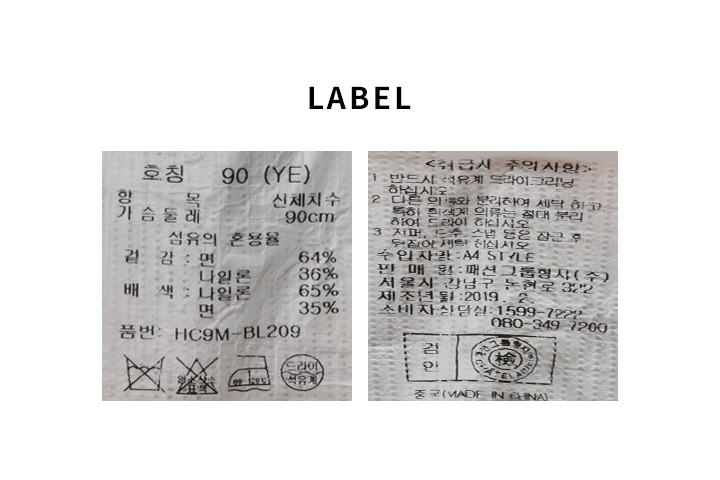KR_dry_clean_petroleum: (278, 348, 327, 394)
KR_iron_low_temp_with_cloth: (224, 348, 274, 394)
KR_no_bleach: (171, 352, 222, 397)
KR_no_wash: (121, 351, 166, 395)
